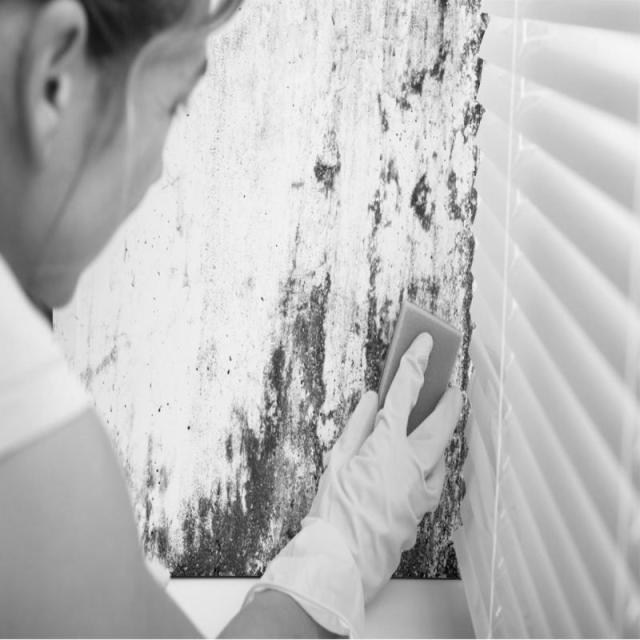stain marks: (80, 0, 492, 583)
